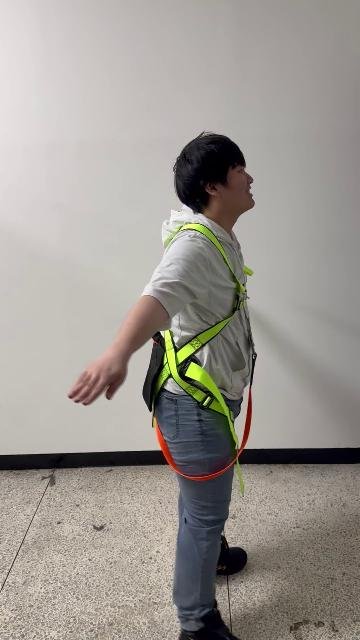helmet_not_worn: (176, 133, 258, 211)
shoe_worn: (177, 601, 239, 636), (216, 535, 247, 577)
vest_worn: (144, 227, 257, 477)
